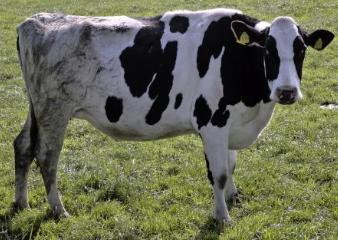cow: (13, 7, 336, 221)
